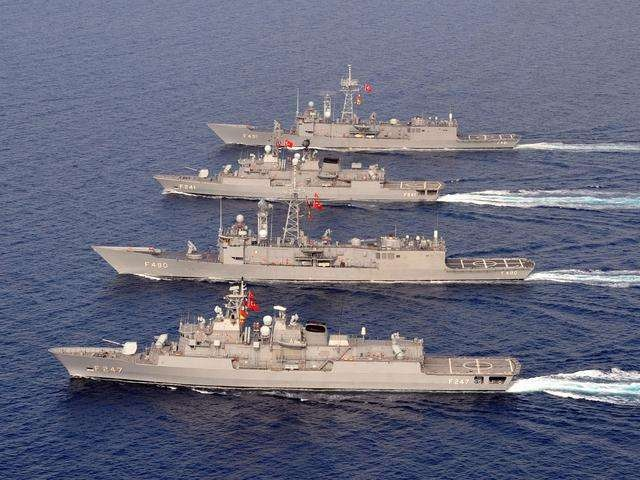warship: (46, 280, 521, 392), (80, 219, 537, 286), (202, 80, 527, 155), (146, 131, 444, 206)
